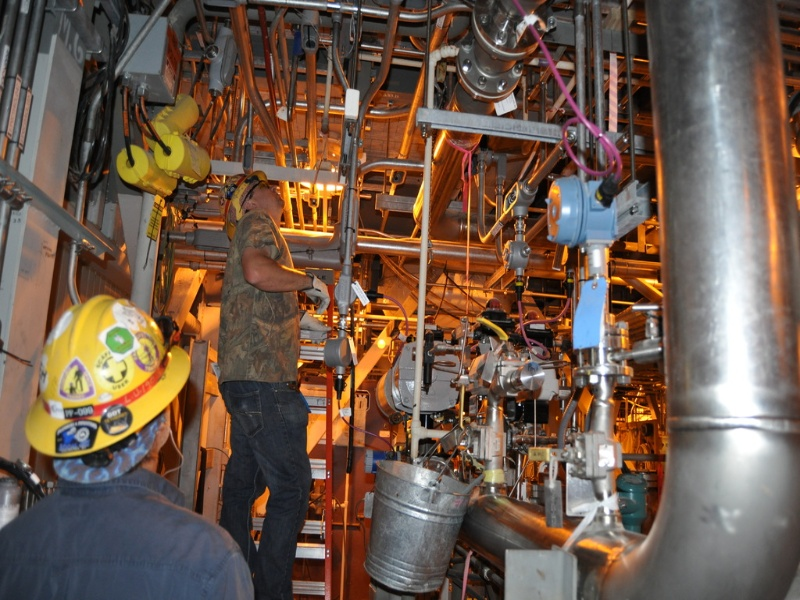Baret: (25, 295, 194, 450)
